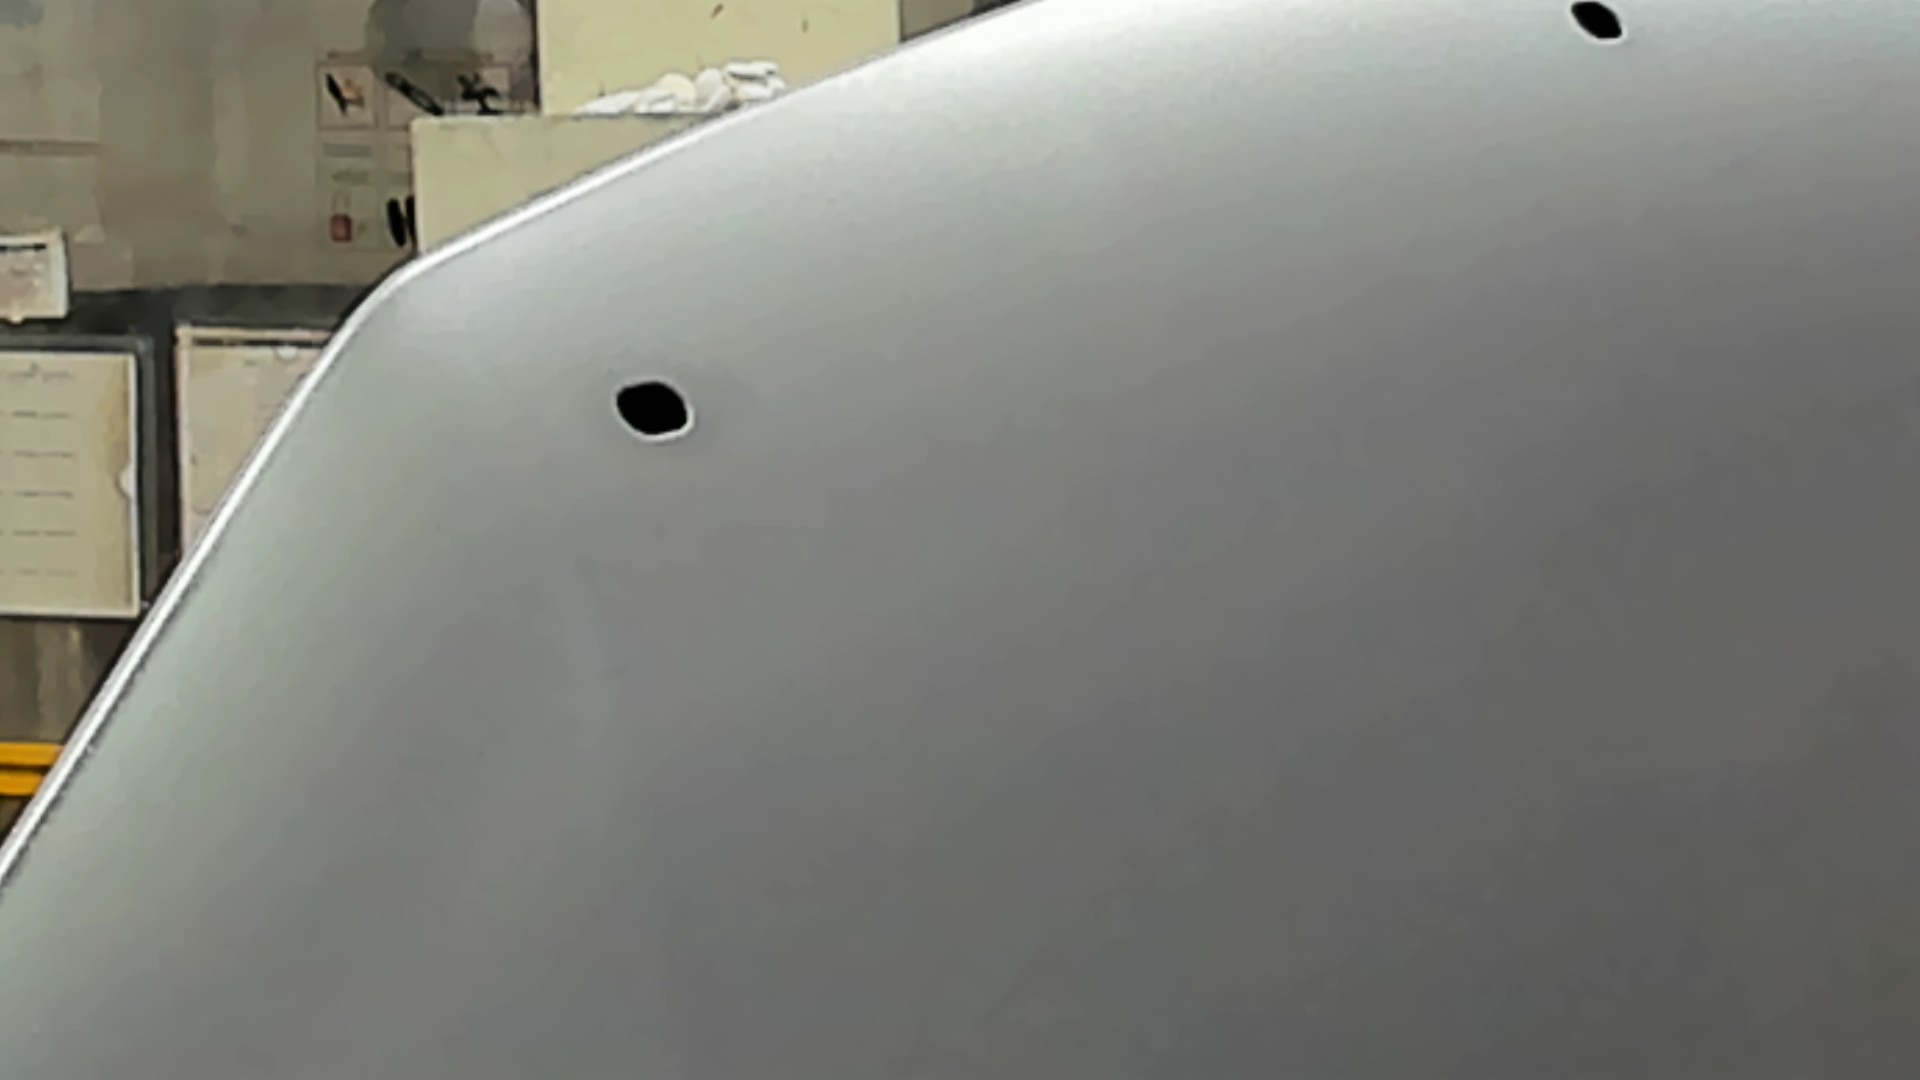amorfo: (611, 372, 704, 440), (1551, 1, 1636, 55)
capo: (862, 92, 1920, 1080)
